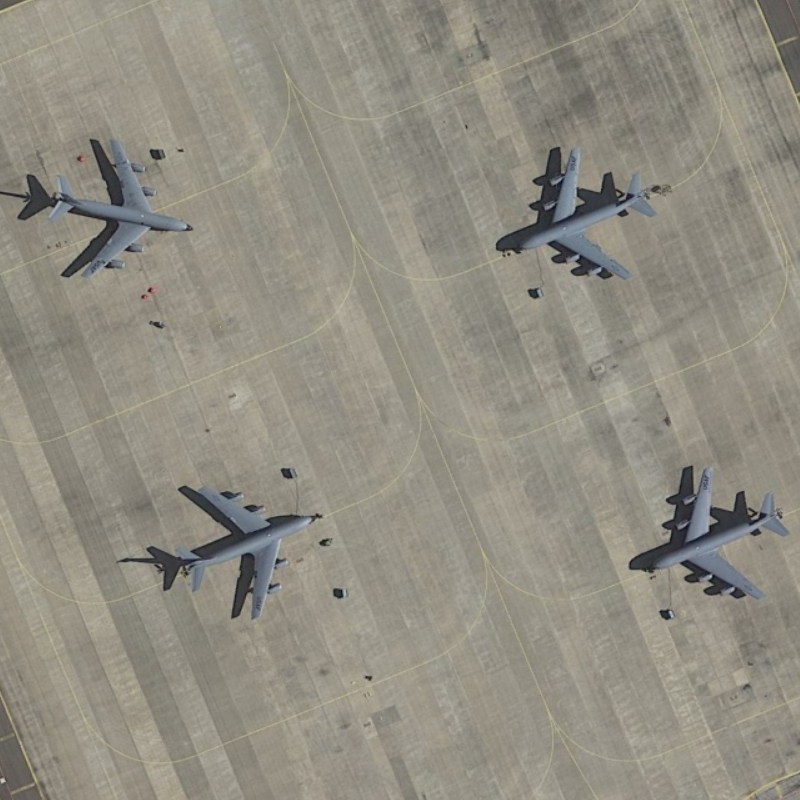A14: (167, 468, 328, 627), (38, 133, 202, 287), (506, 138, 665, 290), (642, 460, 794, 603)
